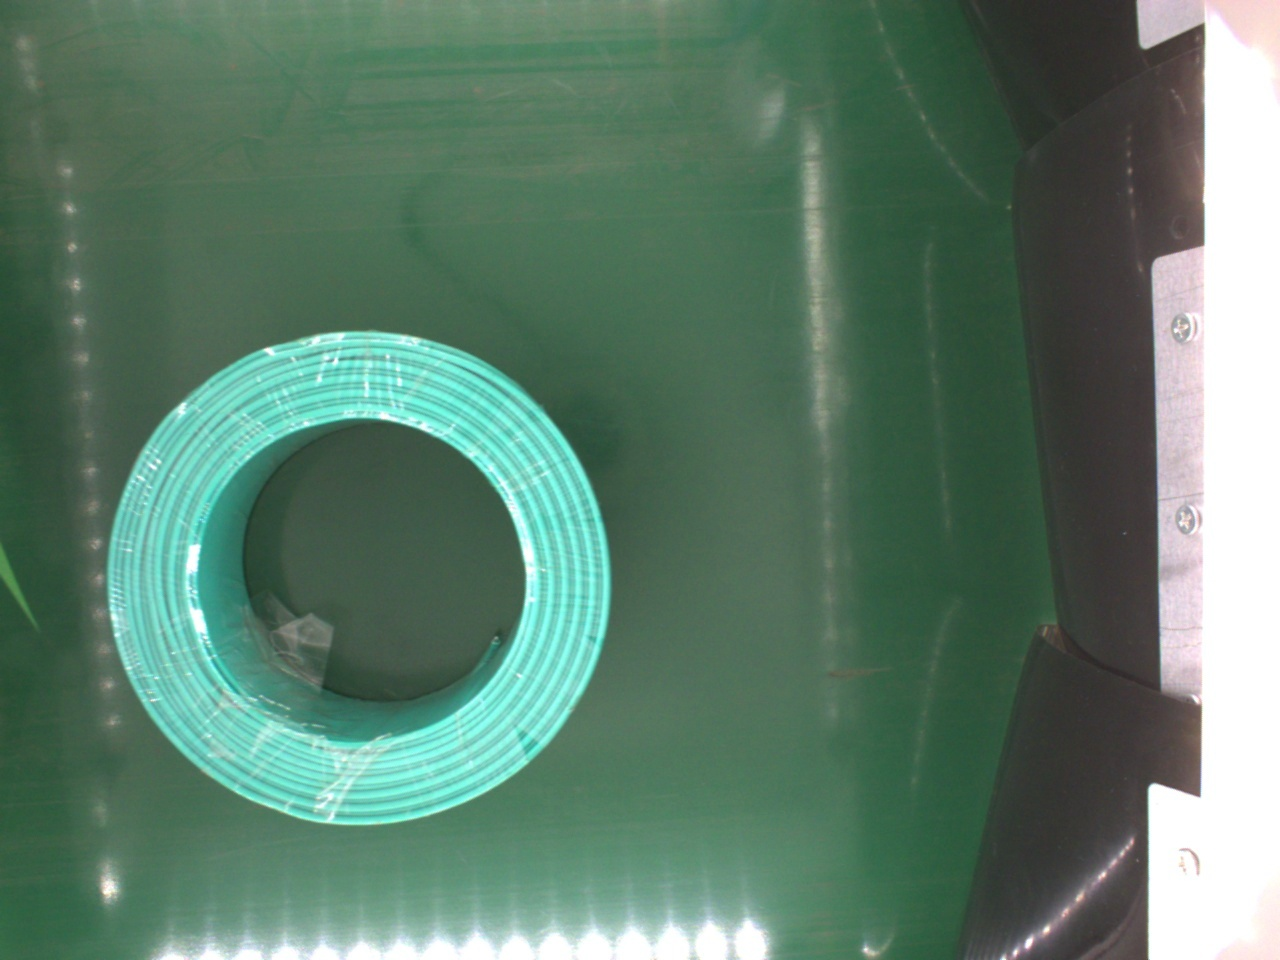green: (112, 333, 610, 829)
